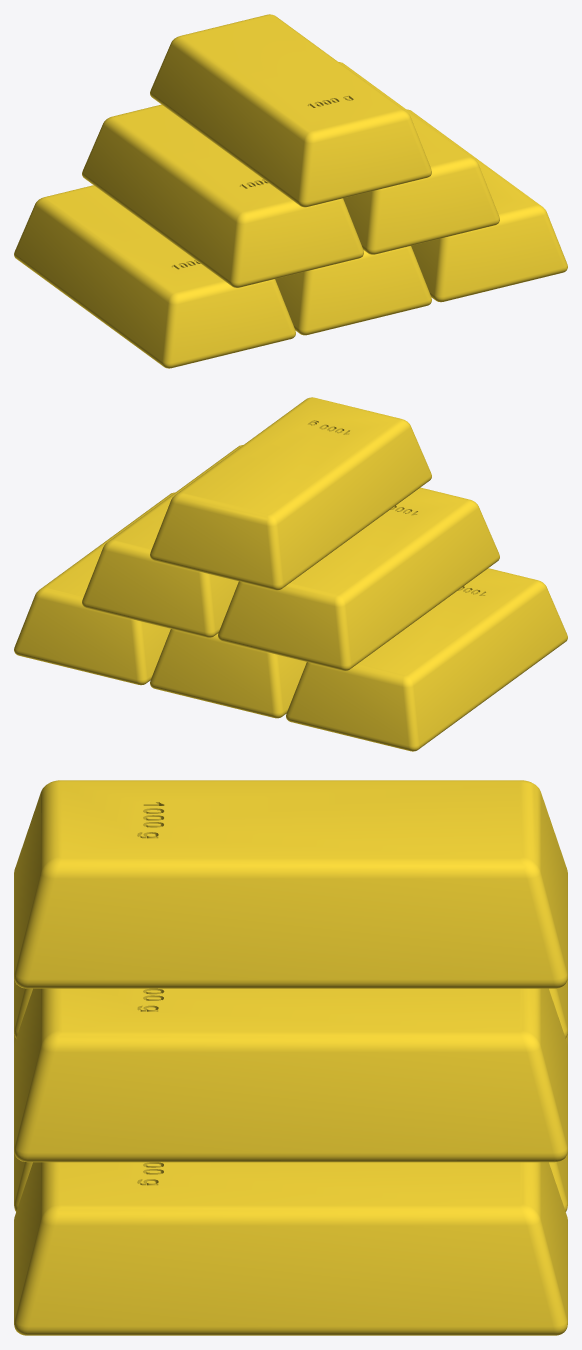
The model's file is gold-bars.glb.
3 views of the same model, one above another, from view 1: azimuth 30°, elevation 25°; view 2: azimuth 150°, elevation 25°; view 3: azimuth 270°, elevation 25° (orthographic). The views are drawn at different scales.
Visible parts, largest first — view 1: 01; view 2: 01; view 3: 01.
Part boxes in pixels (left/top/right/bottom): 01: left=14, top=14, right=567, bottom=368; 01: left=14, top=397, right=567, bottom=751; 01: left=14, top=780, right=567, bottom=1335.
Bounding box in the file's own units: 0.2258 × 0.1024 × 0.15.
